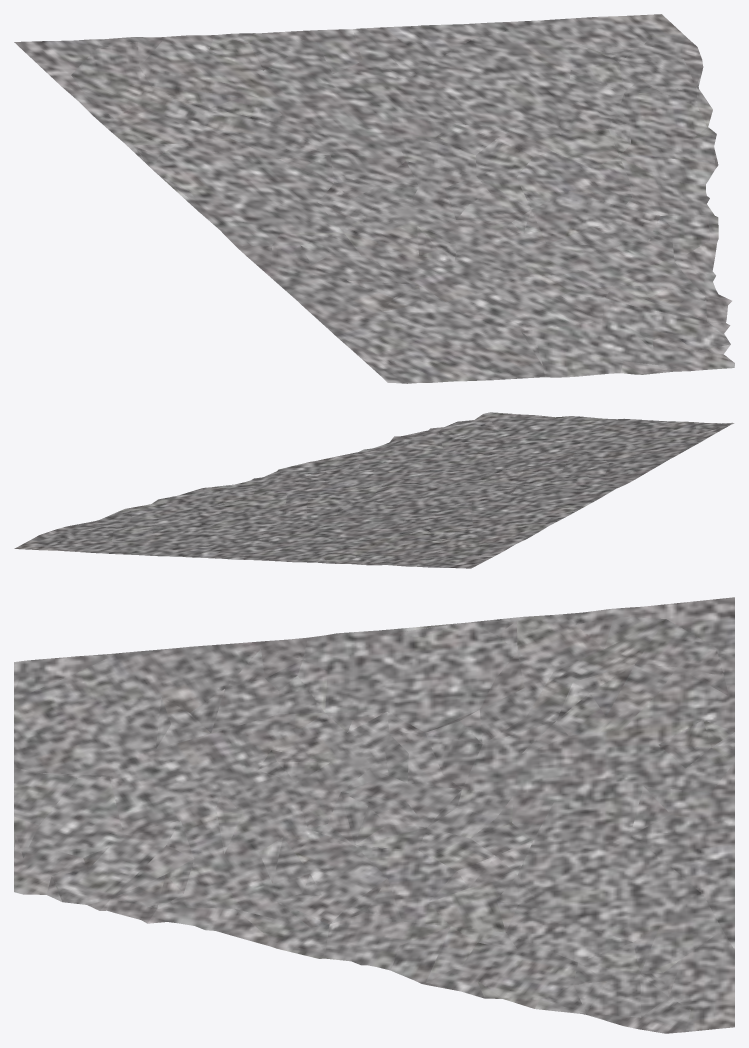
3 views of the same model, one above another, from view 1: azimuth 30°, elevation 25°; view 2: azimuth 150°, elevation 25°; view 3: azimuth 270°, elevation 25° (orthographic). The views are drawn at different scales.
Bounding box in the file's own units: 0.8374 × 0.169 × 0.8373.
Materials: 2 (2 with a texture image).
